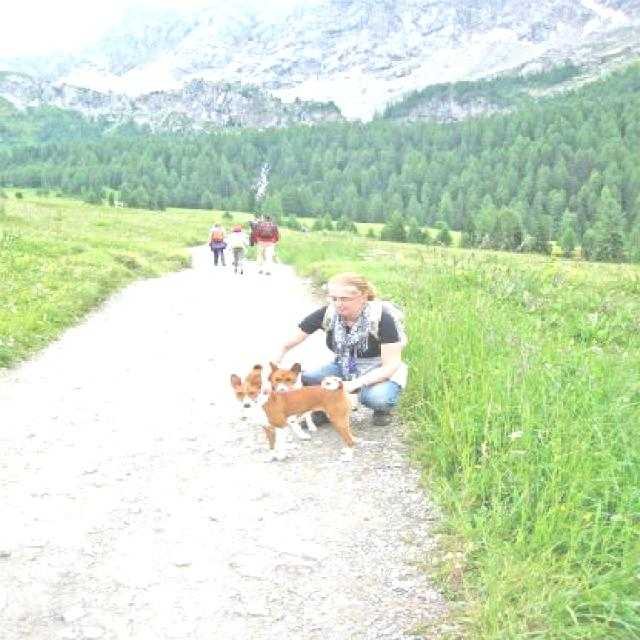Person: (285, 272, 403, 428), (252, 212, 283, 278), (223, 225, 252, 278), (205, 224, 223, 262)
